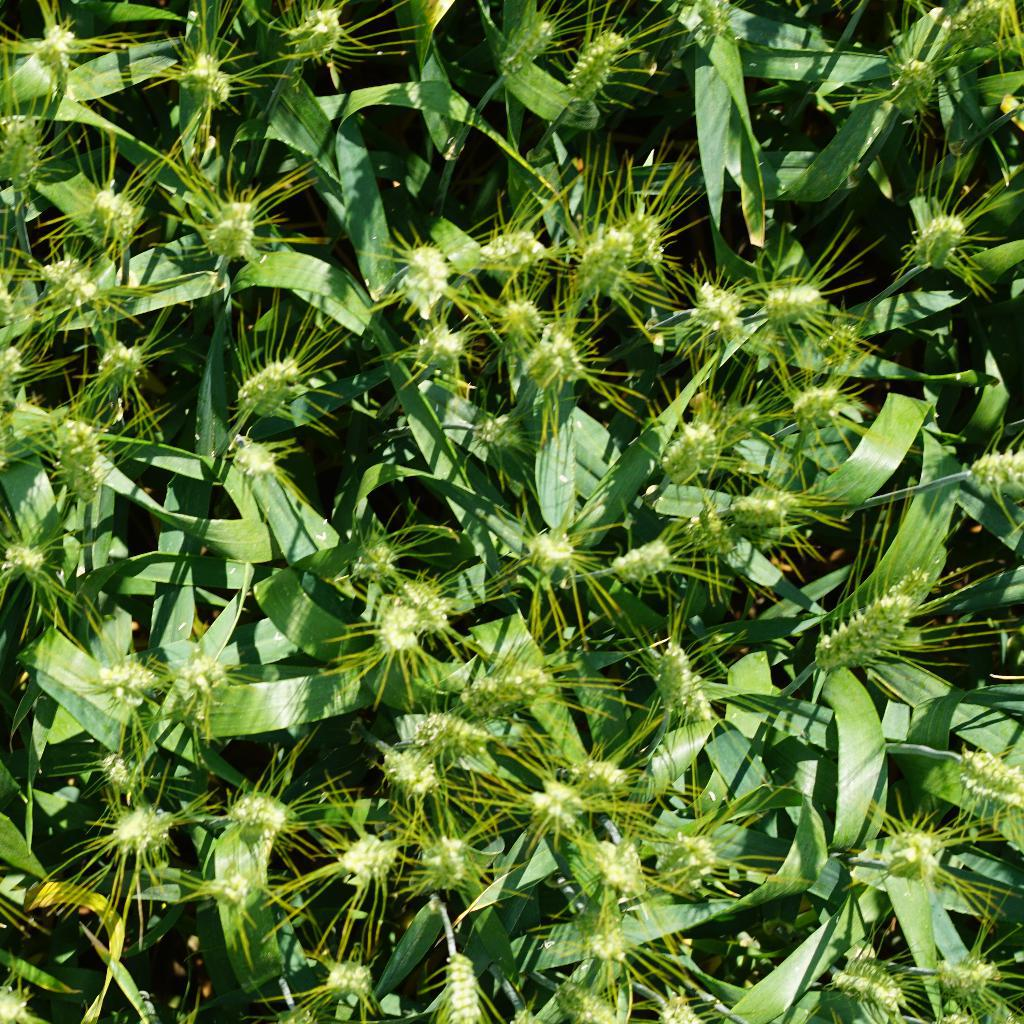0-0: (808, 583, 923, 677), (36, 410, 118, 505), (227, 348, 318, 423), (75, 641, 168, 714), (735, 458, 821, 535), (168, 36, 251, 115), (656, 408, 729, 493), (21, 14, 100, 92), (636, 635, 705, 723), (945, 731, 1024, 807), (564, 23, 633, 110), (324, 817, 407, 889), (471, 213, 555, 284), (568, 212, 634, 301), (458, 660, 557, 718), (89, 737, 171, 807), (900, 206, 978, 279), (213, 784, 301, 847), (938, 1, 1024, 65), (160, 643, 234, 716), (38, 249, 111, 322), (75, 324, 154, 391), (830, 942, 904, 1013), (434, 934, 492, 1024), (925, 941, 1016, 998), (408, 821, 477, 896), (463, 395, 535, 466), (677, 277, 750, 347), (597, 527, 673, 593), (0, 103, 53, 197), (387, 570, 462, 636), (591, 198, 668, 261), (557, 901, 636, 961), (788, 374, 864, 436), (98, 804, 183, 859), (494, 6, 553, 84), (395, 227, 445, 318), (411, 706, 486, 766), (310, 953, 384, 1012), (758, 271, 830, 331), (674, 506, 747, 565), (197, 198, 261, 265), (186, 866, 261, 923), (281, 0, 347, 64), (535, 322, 591, 397), (359, 594, 421, 661), (378, 742, 447, 802), (651, 829, 717, 890), (585, 838, 650, 899), (882, 48, 956, 101), (227, 432, 296, 488), (882, 822, 944, 884), (965, 434, 1024, 498), (500, 522, 583, 567), (85, 182, 145, 243), (524, 776, 589, 832), (421, 317, 471, 382), (567, 977, 635, 1024), (0, 530, 55, 586), (499, 294, 542, 358), (571, 755, 635, 798), (878, 564, 936, 610), (814, 319, 871, 365), (347, 539, 401, 584)
